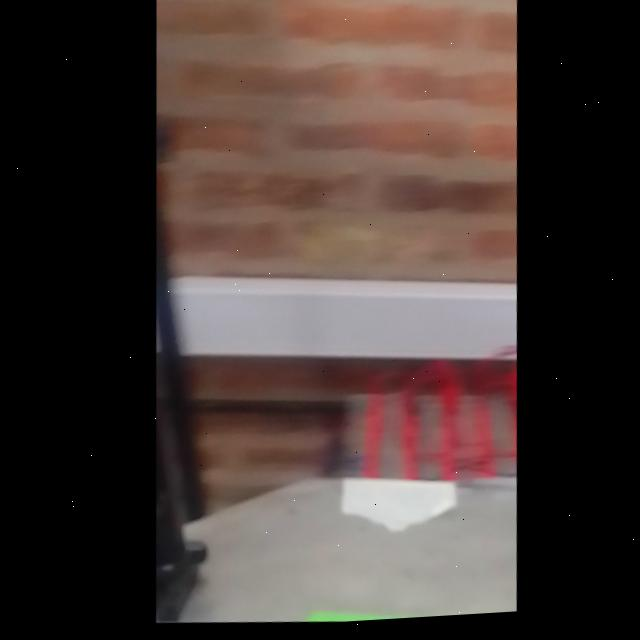greenBox: (244, 594, 510, 630)
